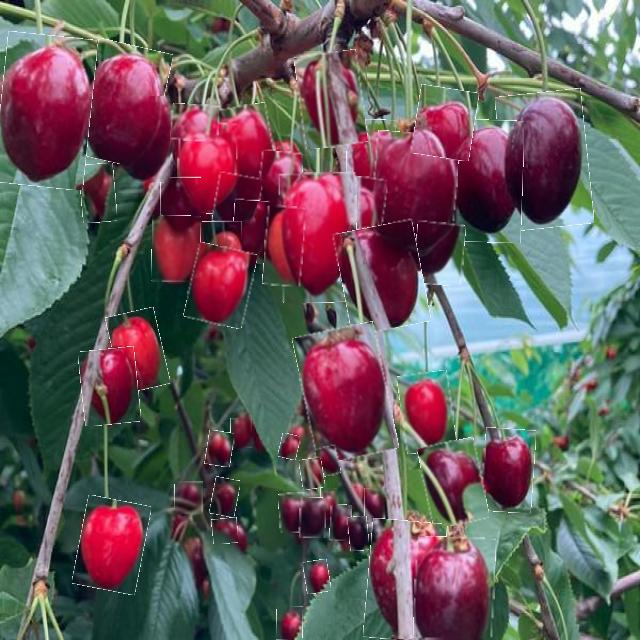cherry: (0, 33, 93, 187), (499, 90, 591, 229), (299, 324, 393, 460), (371, 132, 458, 261), (79, 42, 167, 167), (280, 172, 357, 302), (338, 223, 427, 332), (365, 519, 444, 640), (452, 120, 523, 243), (414, 537, 495, 640), (76, 497, 148, 593), (297, 51, 365, 148), (213, 104, 276, 195), (421, 440, 486, 526), (187, 246, 254, 326), (177, 123, 236, 213), (109, 310, 166, 392), (80, 348, 140, 425), (414, 86, 476, 159), (482, 428, 535, 513), (400, 372, 454, 452), (120, 96, 170, 182), (152, 216, 200, 282), (414, 222, 464, 285), (264, 206, 303, 286), (347, 120, 396, 182), (341, 176, 386, 236), (259, 151, 302, 212), (214, 173, 261, 226), (232, 200, 268, 263), (160, 177, 201, 230), (80, 164, 116, 222), (171, 104, 219, 141), (202, 221, 242, 260), (279, 492, 307, 533), (299, 498, 326, 538), (211, 477, 238, 516), (206, 431, 233, 466), (175, 481, 203, 514), (304, 560, 330, 594), (277, 606, 303, 640), (330, 505, 352, 541), (300, 458, 324, 489), (348, 516, 369, 551), (316, 446, 340, 476), (212, 517, 237, 544), (364, 488, 385, 520), (231, 418, 252, 448), (320, 488, 337, 520), (279, 434, 299, 459)
